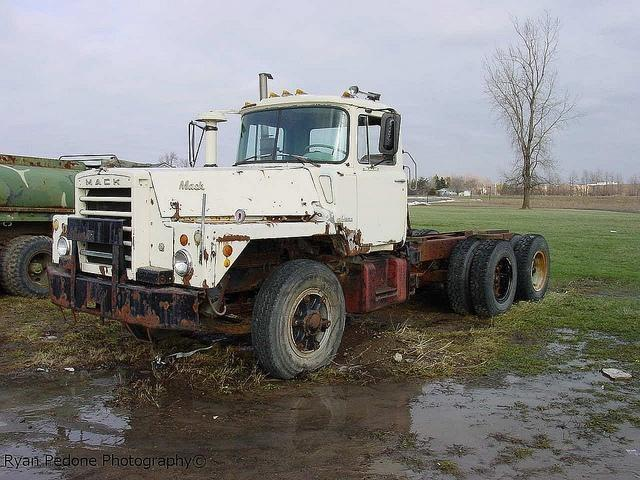truck: (49, 73, 552, 377), (2, 154, 174, 296)
